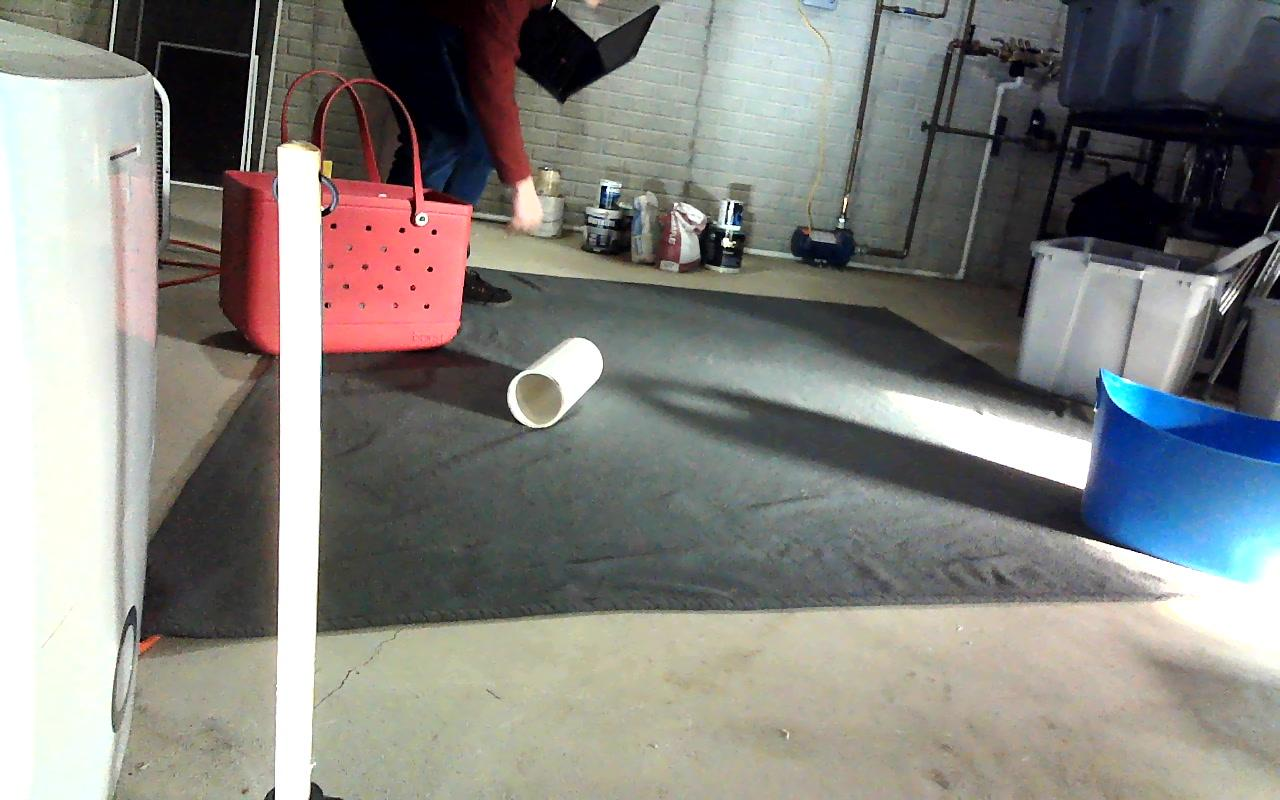coral: (507, 337, 602, 428)
